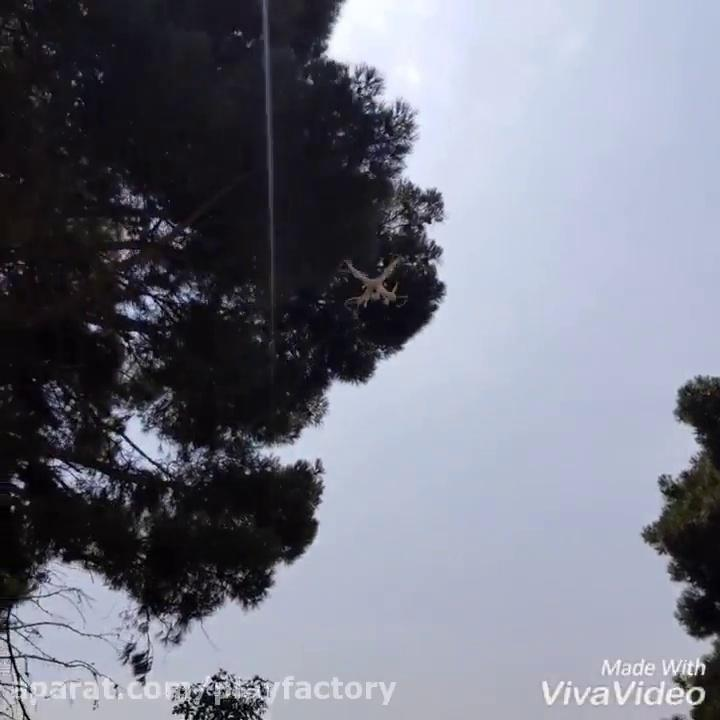drone: (339, 249, 414, 311)
